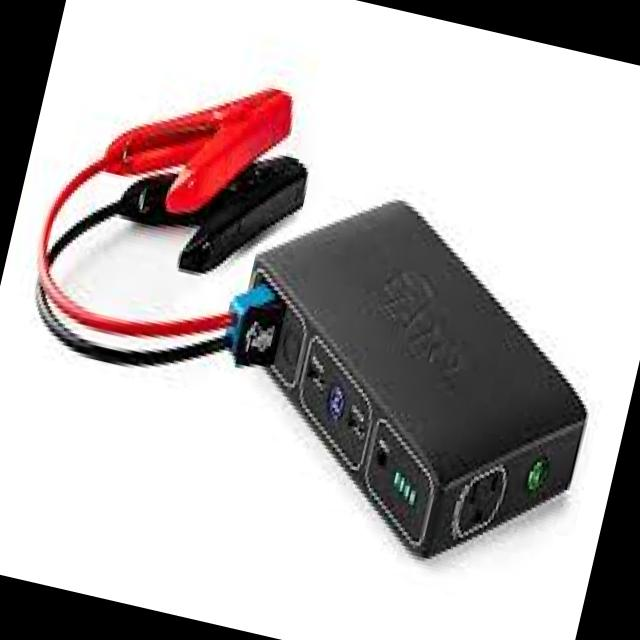power_bank: (180, 158, 635, 612)
